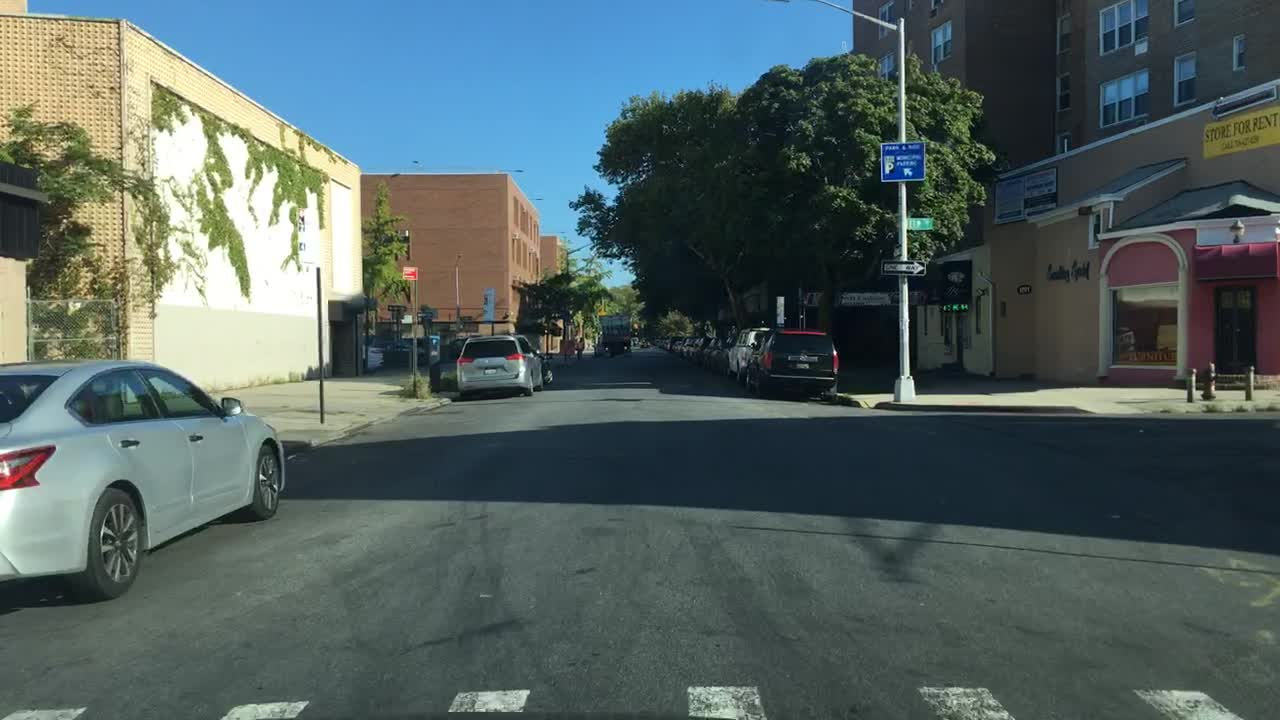car: (0, 358, 288, 598), (743, 330, 837, 402), (454, 332, 553, 394), (721, 325, 768, 382), (700, 327, 736, 372), (384, 342, 428, 364), (360, 344, 386, 372), (688, 334, 711, 362), (679, 339, 695, 359), (661, 334, 678, 350), (671, 337, 686, 355), (636, 335, 653, 350), (654, 332, 664, 347), (629, 329, 637, 345)
person: (575, 335, 585, 357)
traffic sign: (879, 139, 924, 183), (881, 261, 926, 276), (775, 294, 785, 325), (401, 264, 418, 281), (906, 217, 931, 228), (417, 308, 436, 317), (386, 304, 406, 309)
truck: (599, 312, 632, 355)
